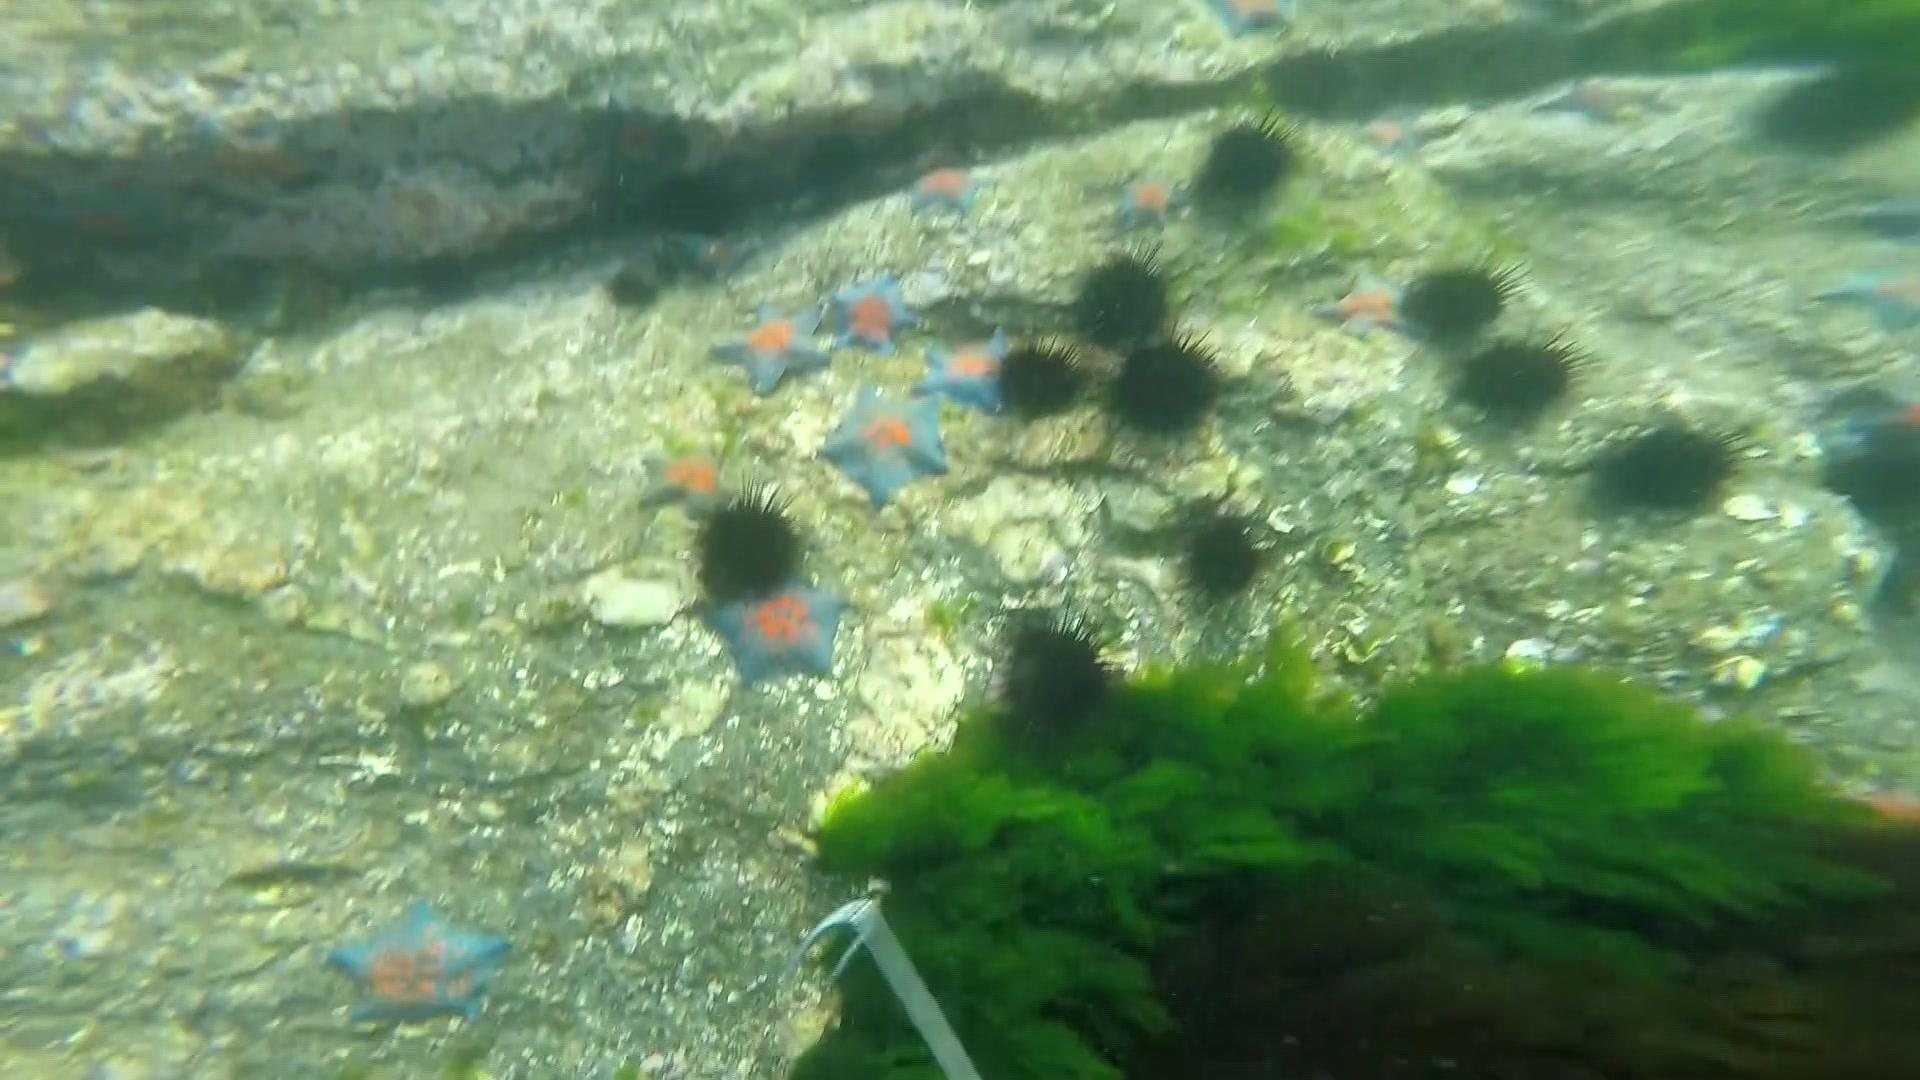echinus: (992, 595, 1131, 749), (1605, 419, 1766, 517), (688, 483, 816, 604), (1760, 69, 1920, 164), (1109, 320, 1236, 436), (1453, 324, 1593, 425), (1076, 233, 1185, 345), (1396, 256, 1534, 342), (1197, 105, 1308, 208), (992, 324, 1105, 425), (1176, 504, 1278, 611), (1825, 440, 1920, 526), (1280, 42, 1370, 127), (645, 171, 750, 241), (802, 124, 876, 196), (413, 247, 483, 307), (1825, 380, 1905, 419), (607, 269, 665, 313)
starfish: (324, 893, 522, 1033), (698, 564, 853, 691), (814, 382, 955, 518), (166, 105, 331, 204), (704, 291, 843, 398), (1308, 261, 1437, 347), (906, 324, 1018, 418), (634, 435, 745, 524), (823, 269, 924, 357), (1534, 75, 1687, 129), (1811, 265, 1920, 340), (582, 90, 682, 164), (1350, 100, 1441, 162), (678, 222, 767, 281), (901, 160, 988, 219), (1114, 166, 1185, 235), (1847, 185, 1920, 248), (1200, 1, 1305, 44)
